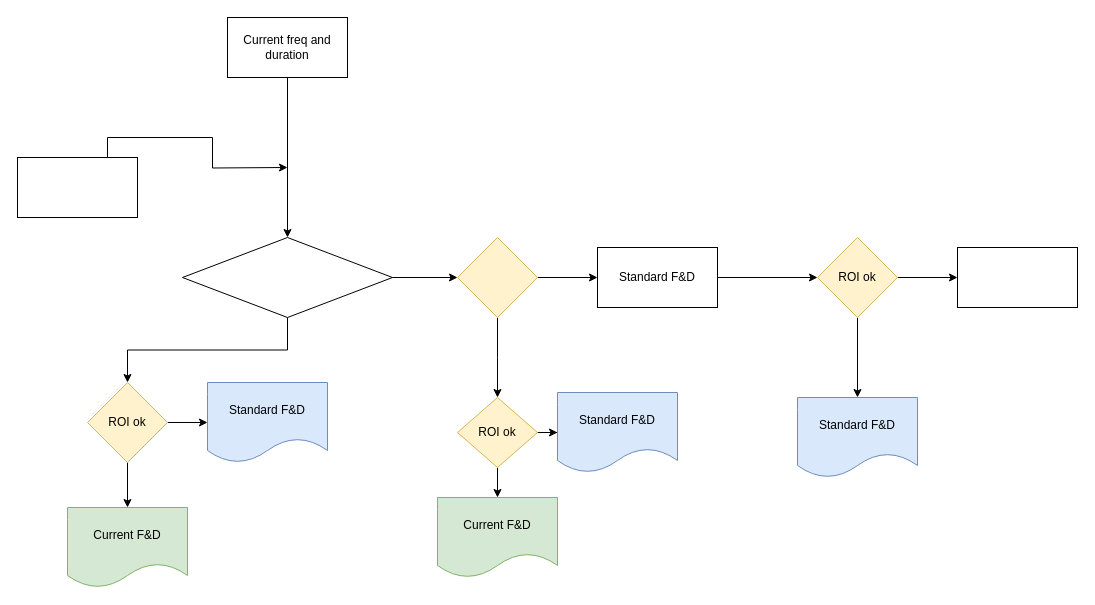
This 1095x605 diagram has some shape labels left out. Each missing label, with the centre of its shape:
"below or align of standards" goes at (287,277).
"HM ? Stationary" goes at (497,277).
"Standards" goes at (77,187).
"Step -1 of Freq" goes at (1017,277).
